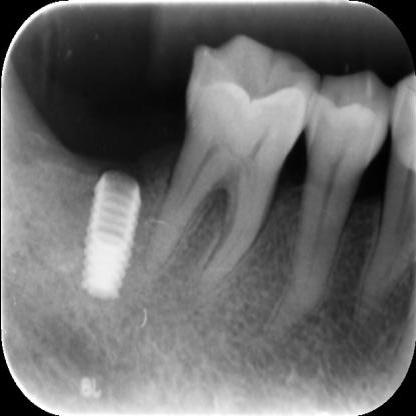Bicon: (78, 164, 145, 302)
